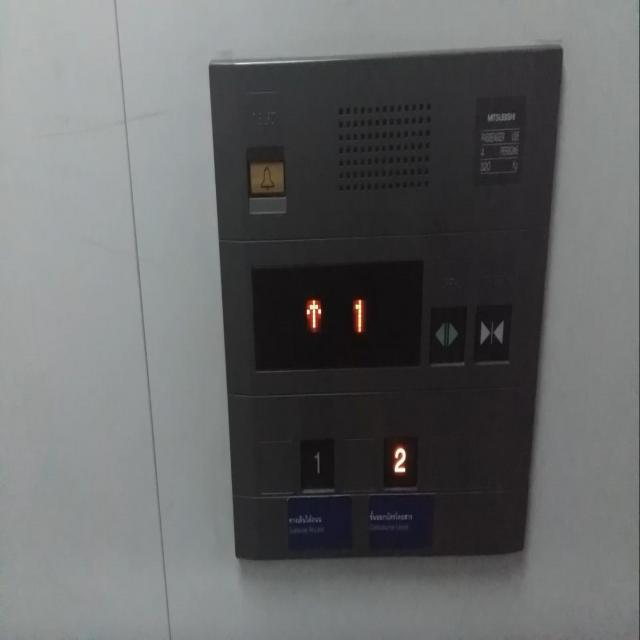1: (296, 434, 338, 494)
2: (380, 432, 420, 492)
alarm: (248, 156, 284, 197)
close: (470, 299, 512, 368)
led: (249, 256, 424, 375)
open: (427, 302, 468, 366)
